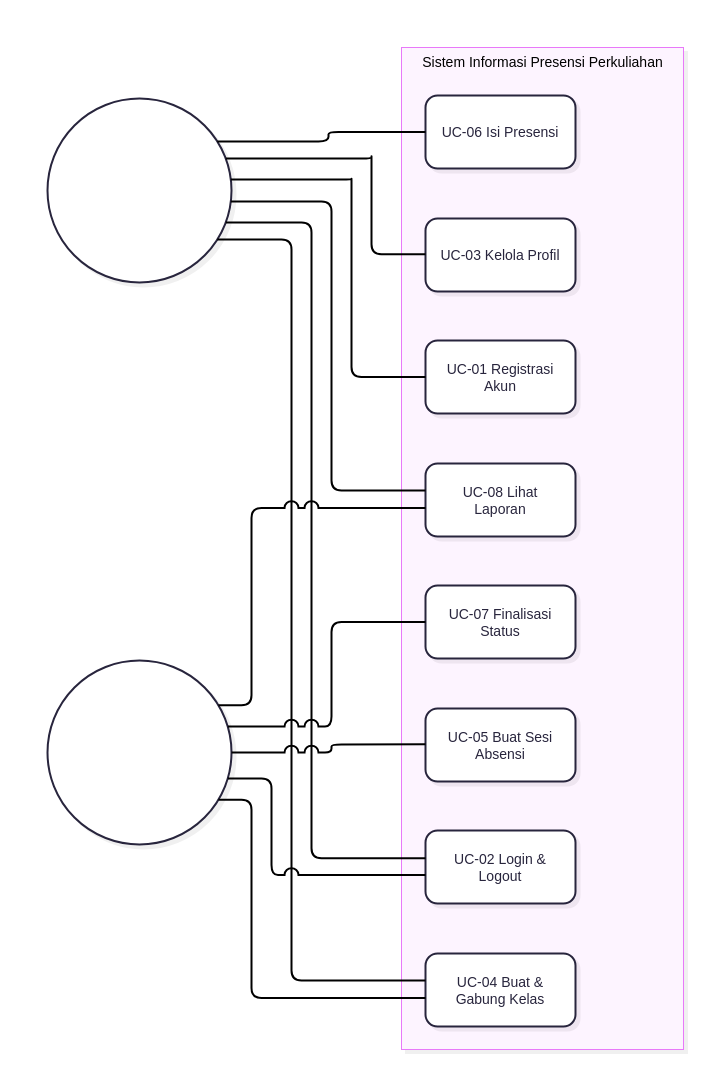
The diagram is 705 pixels wide and 1071 high, and some of its shapes have lost their labels. Here are the shapes that lost their labels. From the top down, the centre of each, then its label:
the point at 141,192: Mahasiswa
the point at 141,754: Dosen
